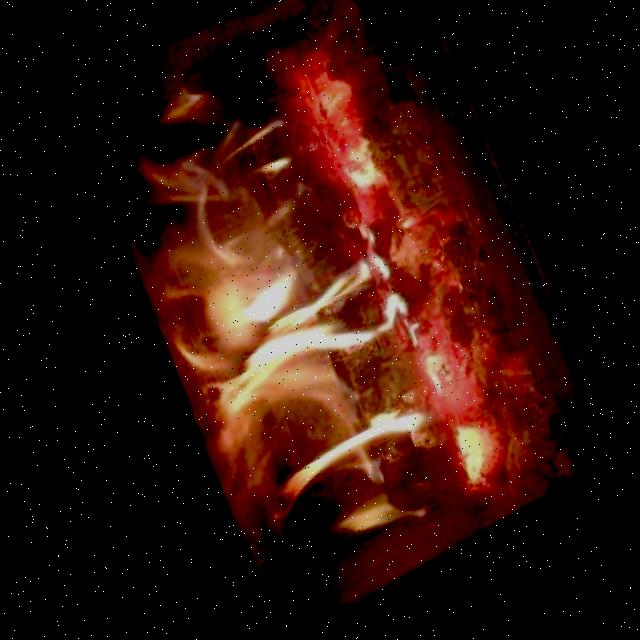Fire: (69, 0, 566, 626)
